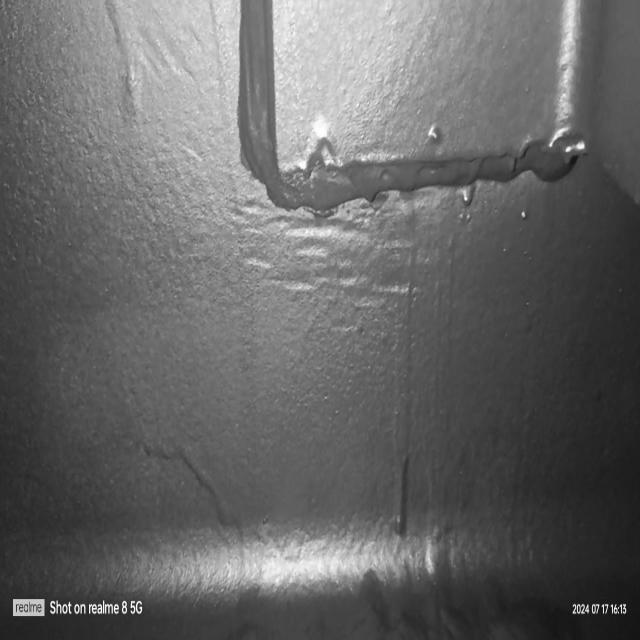paint drips: (133, 433, 255, 538), (382, 371, 418, 533), (453, 181, 484, 224), (423, 113, 446, 152)
